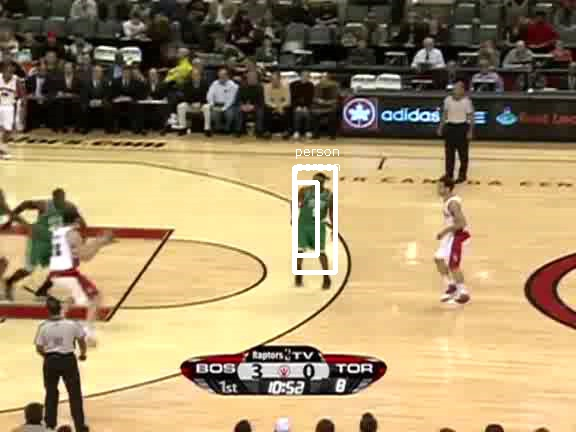person: (298, 178, 332, 259), (297, 178, 331, 259), (299, 178, 333, 259), (298, 177, 332, 258), (298, 179, 332, 260)
target_negative: (102, 216, 214, 431), (525, 152, 560, 377), (226, 170, 298, 278), (540, 53, 567, 124), (468, 336, 512, 367), (545, 188, 567, 224)
